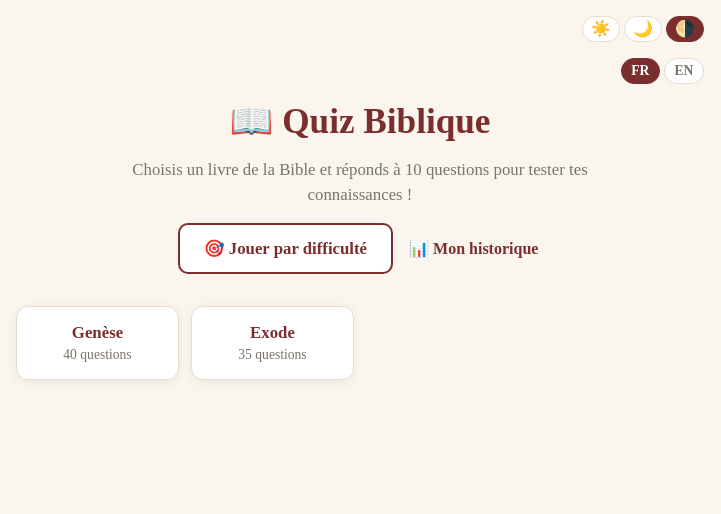
Test: App - difficulty mode › going back from the setup screen returns home without starting a quiz
Step 1. Click the button "🎯 Jouer par difficulté" → (285, 248), box x1=178 y1=223 x2=393 y2=274
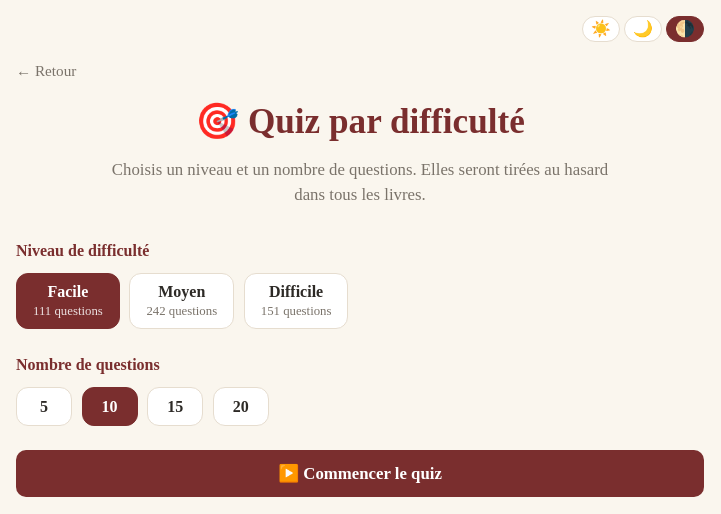
Step 2. Click the button "← Retour" → (46, 71), box x1=16 y1=58 x2=76 y2=84
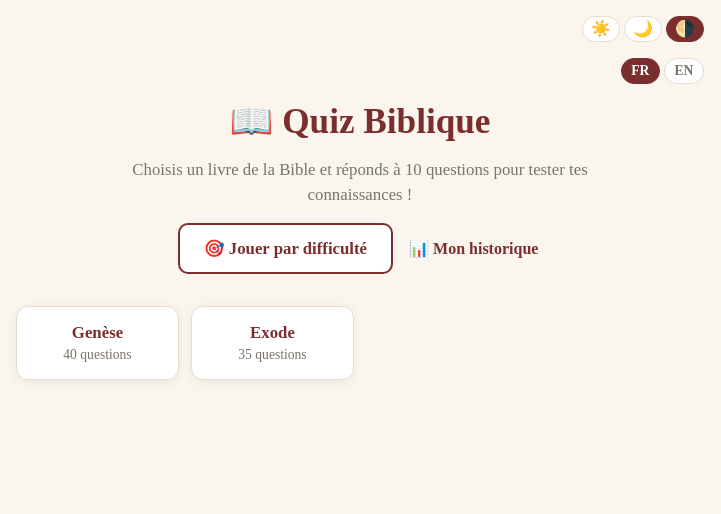
Result: the heading "📖 Quiz Biblique" is shown at x1=230 y1=102 x2=490 y2=141
